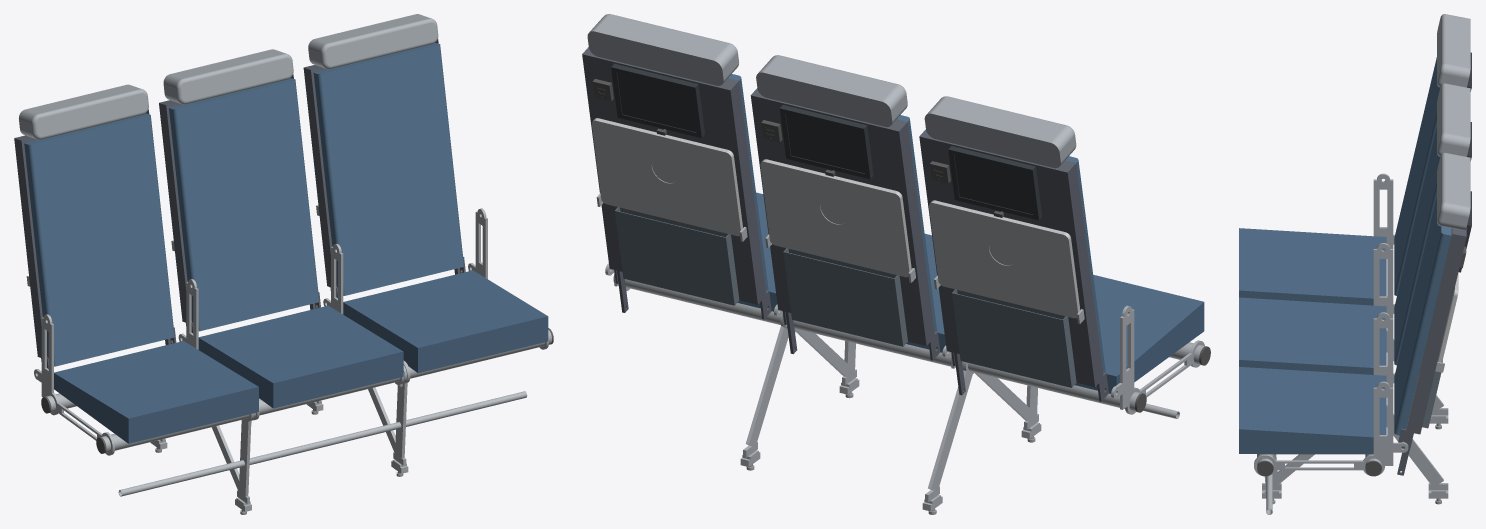
File: step_03.glb
3 renders of one model, left to right at view 1: azimuth 30°, elevation 25°; view 2: azimuth 150°, elevation 25°; view 3: azimuth 270°, elevation 25°, orthographic. The views are drawn at different scales.
Parts seen in each view (by area): view 1: part__seat 2 back cushion cover, part__seat 3 back cushion cover, part__seat 1 back cushion cover, part__seat 1 cushion cover, part__seat 3 cushion cover, part__seat 2 cushion cover, part__seat 3 head rest, part__seat 1 head rest, part__seat 2 head rest, part__baggage bar, part__seat 2 back shell, part__seat 1 back shell (+8 smaller); view 2: part__seat 1 tray table, part__seat 2 tray table, part__seat 3 tray table, part__seat 1 back shell, part__seat 3 back shell, part__seat 2 back shell, part__seat 2 literature pocket, part__seat 1 literature pocket, part__seat 3 literature pocket, part__seat 1 cushion cover, part__seat 1 head rest, part__seat 3 head rest (+13 smaller); view 3: part__seat 3 cushion cover, part__seat 2 cushion cover, part__seat 1 cushion cover, part__seat 3 back cushion cover, part__seat 3 back shell, part__seat 1 back cushion cover, part__seat 2 back cushion cover, part__spreader 4, part__seat 3 head rest, part__seat 1 head rest, part__seat 2 head rest, part__leg 2 (+7 smaller).
Part boxes in pixels (left/top/right/bottom): part__seat 2 back cushion cover: left=169, top=78, right=319, bottom=331; part__seat 3 back cushion cover: left=313, top=43, right=463, bottom=295; part__seat 1 back cushion cover: left=24, top=113, right=174, bottom=366; part__seat 1 cushion cover: left=54, top=341, right=258, bottom=443; part__seat 3 cushion cover: left=343, top=270, right=548, bottom=373; part__seat 2 cushion cover: left=198, top=305, right=403, bottom=408; part__seat 3 head rest: left=308, top=14, right=438, bottom=69; part__seat 1 head rest: left=19, top=84, right=148, bottom=139; part__seat 2 head rest: left=163, top=49, right=293, bottom=104; part__baggage bar: left=118, top=391, right=527, bottom=496; part__seat 2 back shell: left=159, top=74, right=320, bottom=333; part__seat 1 back shell: left=14, top=109, right=176, bottom=368; part__seat 1 tray table: left=929, top=200, right=1080, bottom=318; part__seat 2 tray table: left=760, top=159, right=911, bottom=277; part__seat 3 tray table: left=591, top=118, right=742, bottom=236; part__seat 1 back shell: left=919, top=129, right=1108, bottom=401; part__seat 3 back shell: left=582, top=47, right=771, bottom=319; part__seat 2 back shell: left=750, top=88, right=940, bottom=360; part__seat 2 literature pocket: left=783, top=248, right=907, bottom=346; part__seat 1 literature pocket: left=952, top=289, right=1076, bottom=387; part__seat 3 literature pocket: left=614, top=207, right=739, bottom=305; part__seat 1 cushion cover: left=1075, top=275, right=1204, bottom=393; part__seat 1 head rest: left=924, top=96, right=1076, bottom=168; part__seat 3 head rest: left=587, top=14, right=739, bottom=85; part__seat 3 cushion cover: left=1239, top=367, right=1386, bottom=453; part__seat 2 cushion cover: left=1239, top=297, right=1386, bottom=374; part__seat 1 cushion cover: left=1239, top=228, right=1386, bottom=305; part__seat 3 back cushion cover: left=1394, top=196, right=1451, bottom=435; part__seat 3 back shell: left=1397, top=228, right=1466, bottom=475; part__seat 1 back cushion cover: left=1394, top=57, right=1440, bottom=295; part__seat 2 back cushion cover: left=1394, top=126, right=1440, bottom=365; part__spreader 4: left=1254, top=381, right=1408, bottom=475; part__seat 3 head rest: left=1437, top=152, right=1470, bottom=230; part__seat 1 head rest: left=1437, top=14, right=1470, bottom=87; part__seat 2 head rest: left=1437, top=83, right=1470, bottom=156; part__leg 2: left=1262, top=405, right=1448, bottom=490.
Bounding box in the file's own units: 1552 × 1201 × 709.
